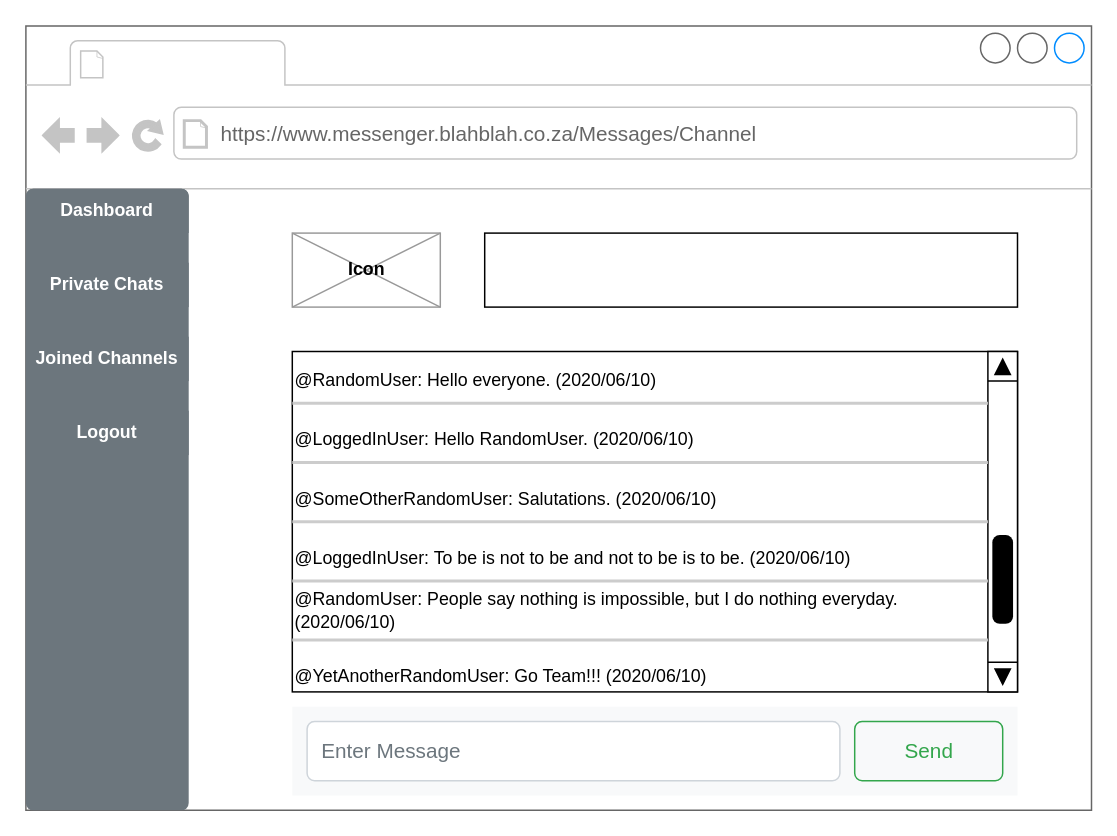
The diagram is 1117 pixels wide and 836 high, and some of its shapes have lost their labels. The box of each missing label's shape, as (x1, y1, x2, y2) in pixels:
Channel Name: (483, 232, 1018, 307)
Messages: (113, 42, 278, 82)
